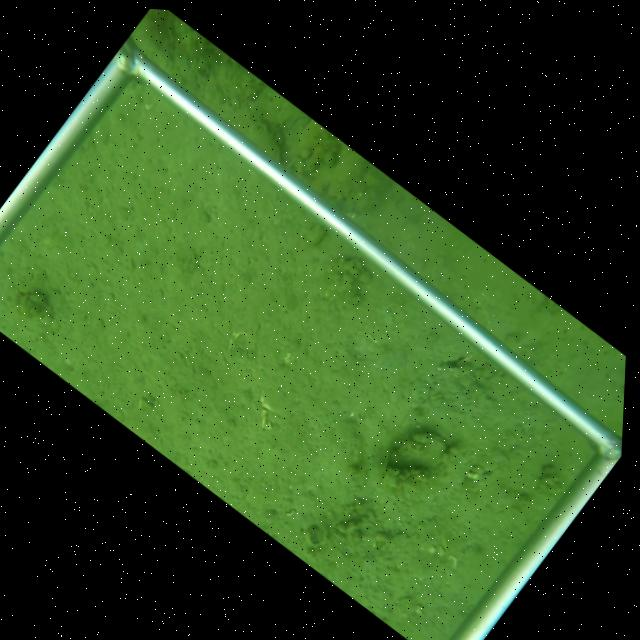Oyster-Closed: (386, 429, 451, 469)
